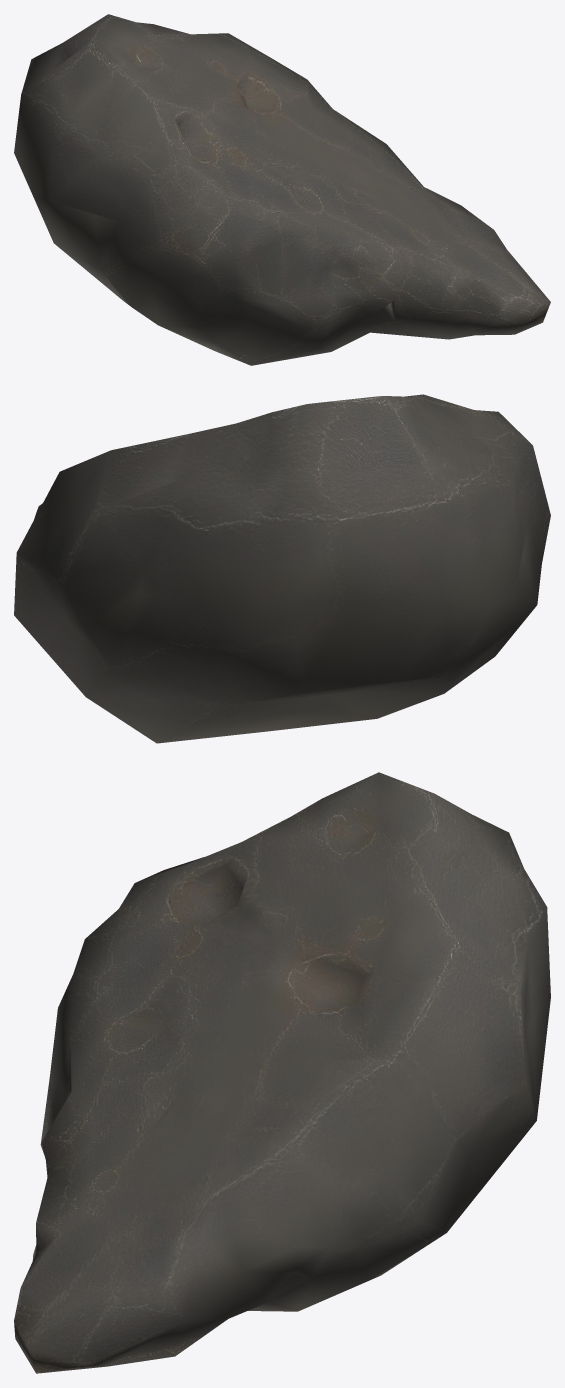
File: legacy_asteroid_02.glb
3 renders of one model, top to bottom at view 1: azimuth 30°, elevation 25°; view 2: azimuth 150°, elevation 25°; view 3: azimuth 270°, elevation 25°, orthographic. The views are drawn at different scales.
Parts seen in each view (by area): view 1: tripo_node_2395f523-cd7d-4492-95de-7e6058278967; view 2: tripo_node_2395f523-cd7d-4492-95de-7e6058278967; view 3: tripo_node_2395f523-cd7d-4492-95de-7e6058278967.
Boxes of the visible parts, bbox=[...] form: tripo_node_2395f523-cd7d-4492-95de-7e6058278967: bbox=[14, 14, 550, 365]; tripo_node_2395f523-cd7d-4492-95de-7e6058278967: bbox=[14, 394, 550, 743]; tripo_node_2395f523-cd7d-4492-95de-7e6058278967: bbox=[14, 772, 550, 1373].
Bounding box in the file's own units: 0.9769 × 0.6614 × 0.8052.
1 material, 1 textured.
